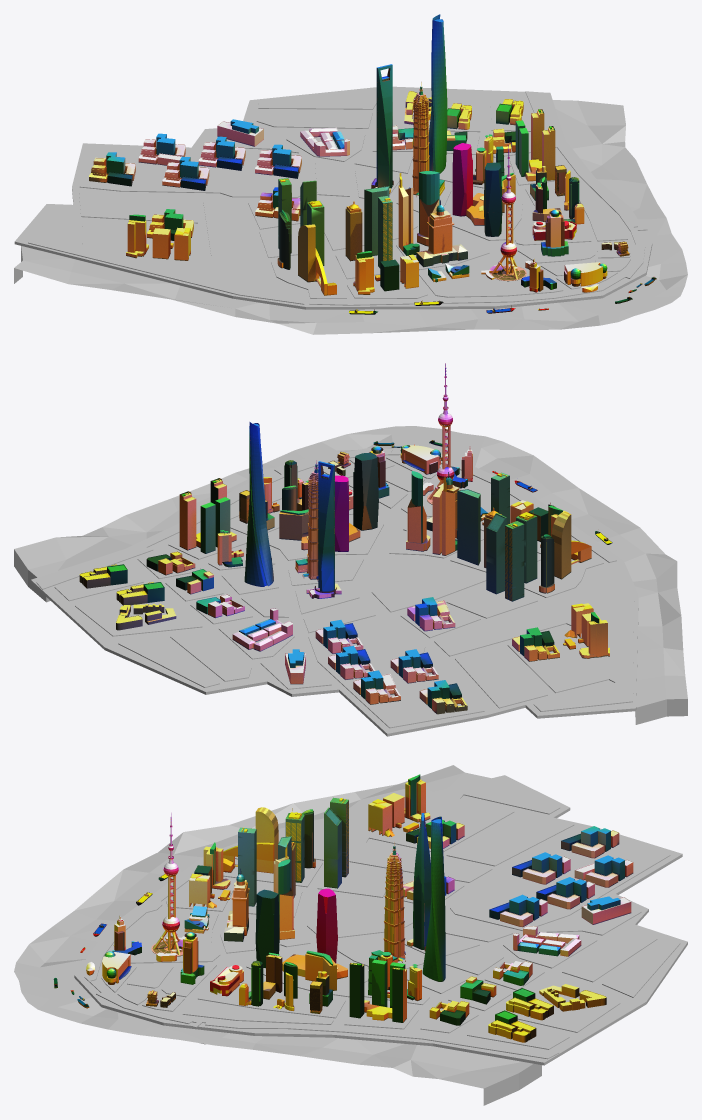
The model's file is SH-Cartoon.obj.
3 views of the same model, one above another, from view 1: azimuth 30°, elevation 25°; view 2: azimuth 150°, elevation 25°; view 3: azimuth 270°, elevation 25° (orthographic). The views are drawn at different scales.
Visible parts, largest first — view 1: River, RiverOnly, Main_1, BuildingAround, Main_2, Main_3, CHuan; view 2: River, RiverOnly, BuildingAround, Main_1, Main_2, Main_3; view 3: River, RiverOnly, BuildingAround, Main_2, Main_1, Main_3.
Boxes of the visible parts, box(x1,y1,x2,y2) form: River: box(14, 86, 652, 309); RiverOnly: box(14, 100, 687, 334); Main_1: box(126, 171, 469, 295); BuildingAround: box(89, 91, 523, 240); Main_2: box(452, 109, 629, 292); Main_3: box(371, 14, 531, 281); CHuan: box(349, 277, 656, 314); River: box(30, 447, 638, 736); RiverOnly: box(14, 426, 687, 724); BuildingAround: box(79, 551, 559, 714); Main_1: box(406, 471, 609, 658); Main_2: box(179, 445, 473, 567); Main_3: box(244, 363, 454, 598); River: box(74, 775, 687, 1065); RiverOnly: box(14, 765, 541, 1105); BuildingAround: box(403, 819, 633, 1042); Main_2: box(86, 888, 421, 1022); Main_1: box(184, 774, 430, 941); Main_3: box(151, 812, 445, 981).
Bounding box in the file's own units: 5.13 × 1.42 × 4.51.
